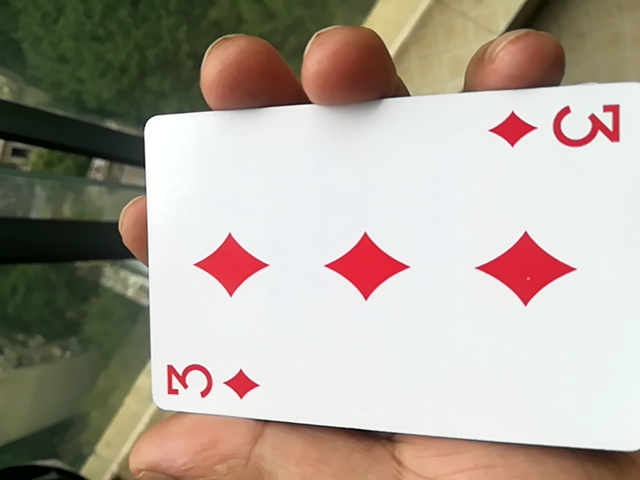fk 3: (126, 105, 638, 463)
